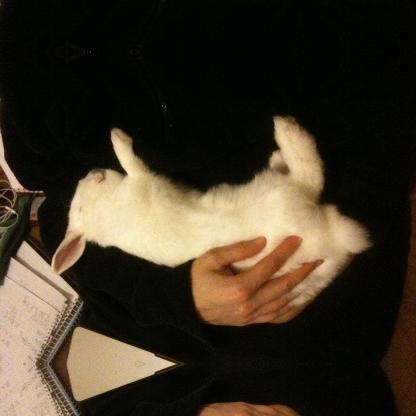Cat: (49, 115, 374, 310)
